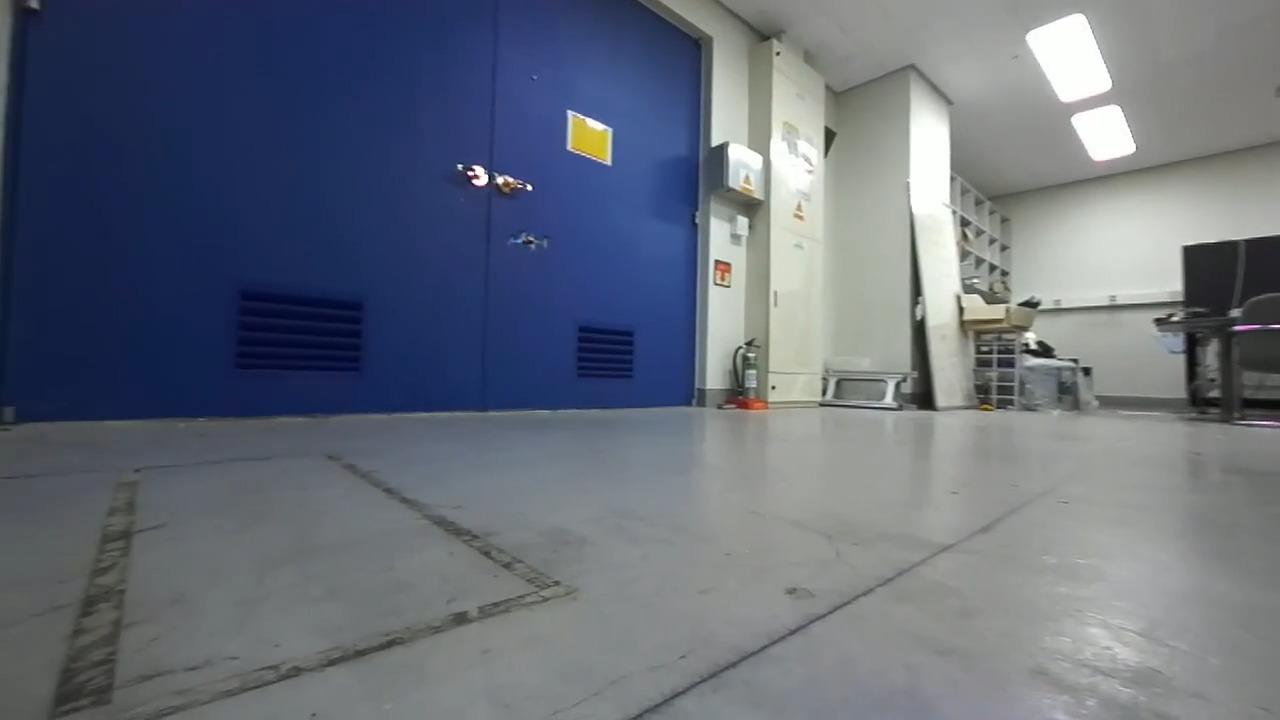crazyflie: (506, 228, 551, 254)
